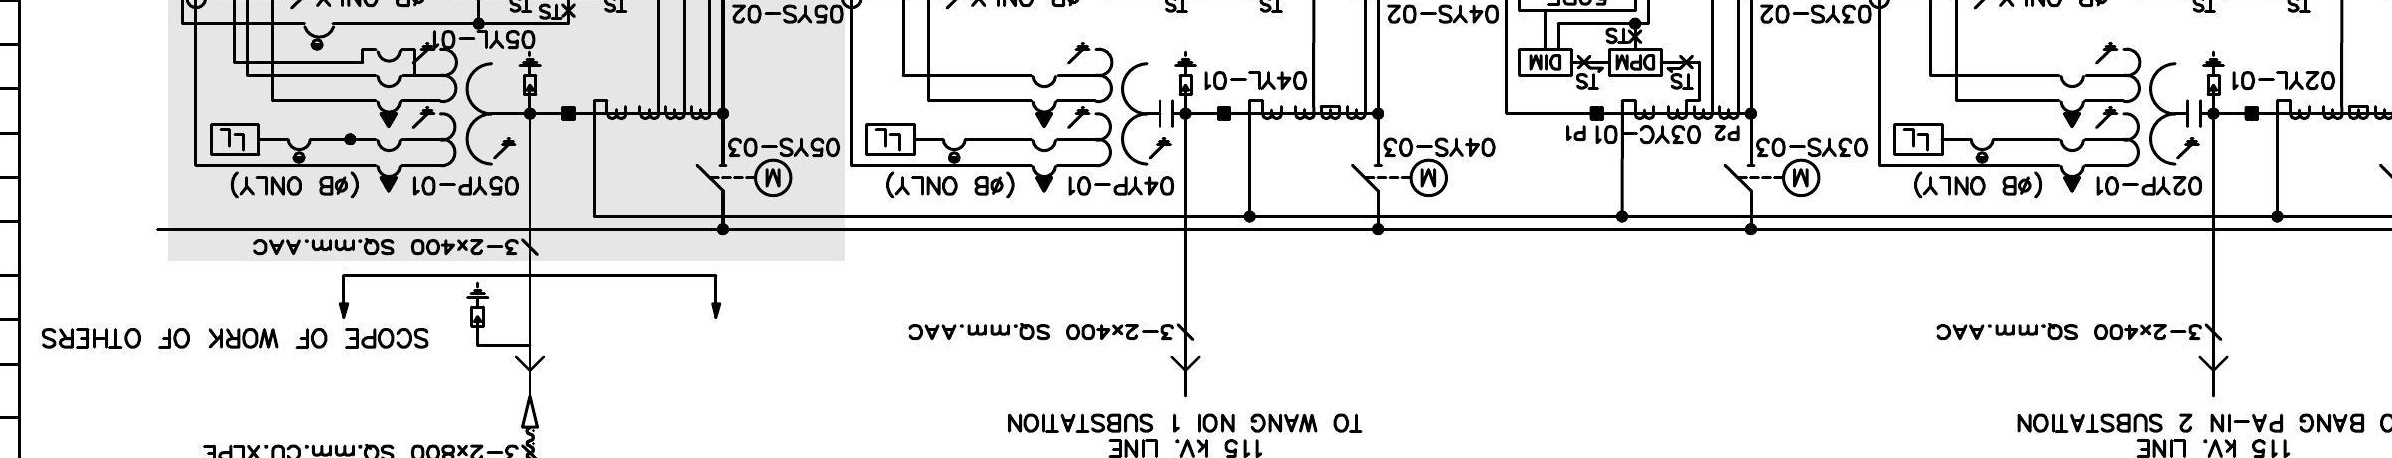115_1way_ds_w_motor: (1350, 157, 1449, 198), (696, 157, 793, 198), (1722, 159, 1821, 198)
115_cvt_1p: (2058, 41, 2203, 194), (1030, 41, 1175, 194)
115_la: (465, 281, 490, 328), (2201, 50, 2226, 96), (1173, 50, 1198, 96), (519, 50, 543, 96)
115_vt_1p: (374, 41, 517, 194)
DIM: (1518, 49, 1573, 78)
DPM: (1608, 47, 1664, 78)
LL: (1893, 122, 1945, 156), (865, 122, 917, 156), (209, 122, 261, 156)
